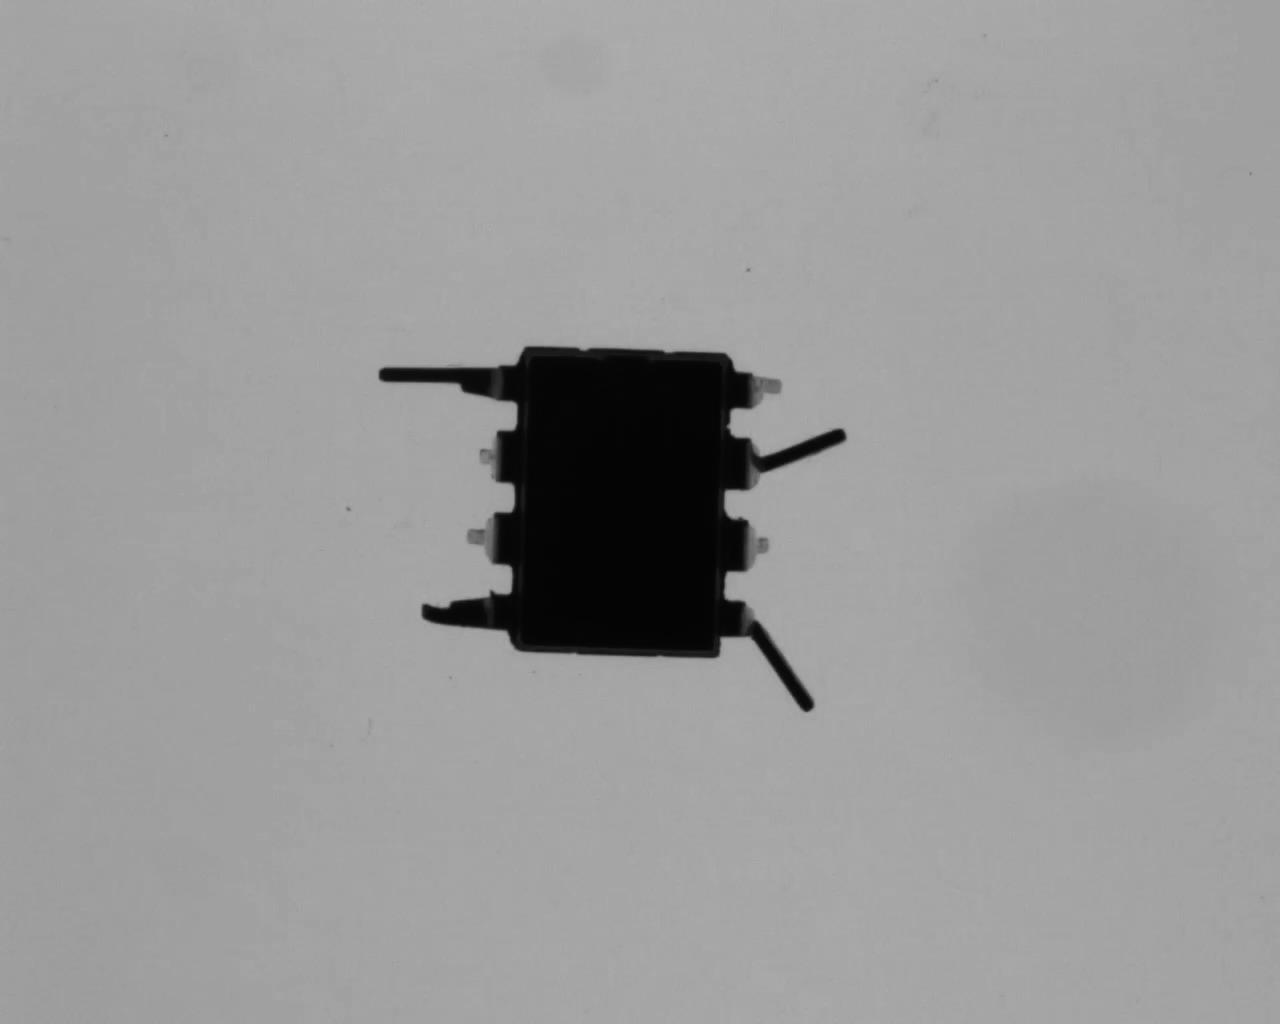Leg: (718, 595, 816, 716), (724, 420, 858, 495), (369, 355, 523, 414), (416, 588, 516, 642), (458, 507, 525, 571), (721, 507, 777, 576), (470, 423, 525, 494), (734, 367, 783, 420)
